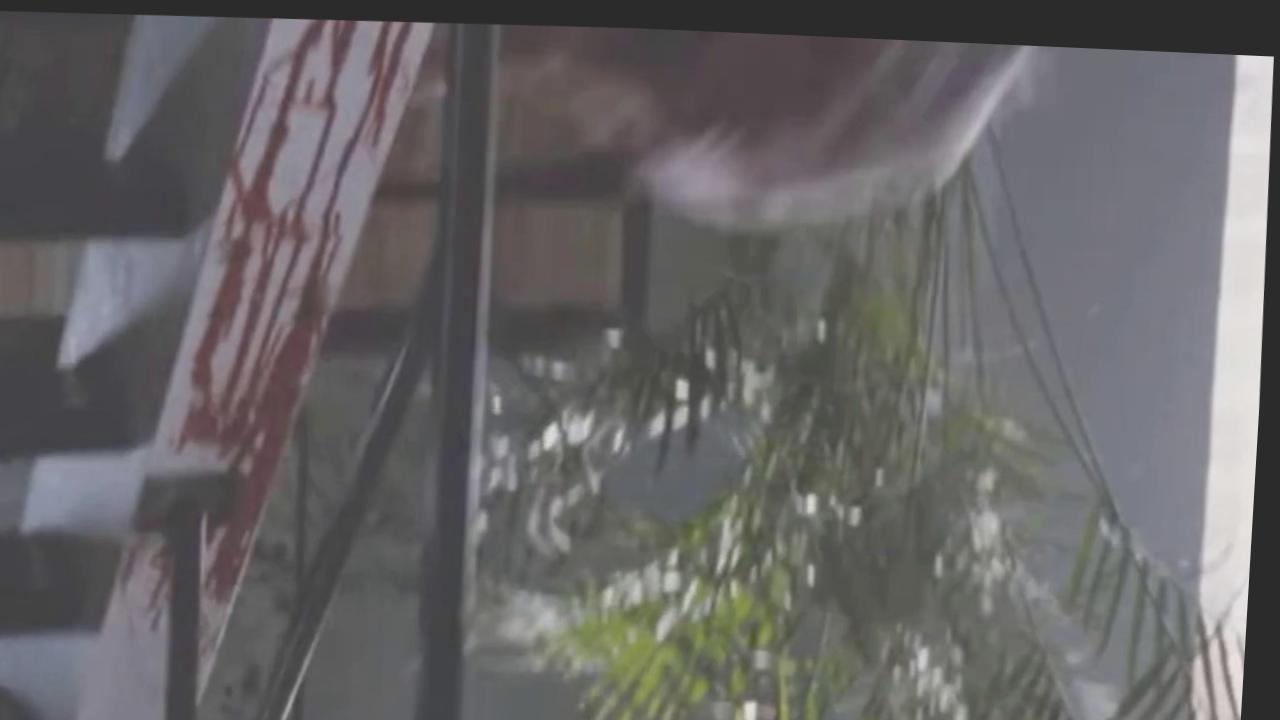Fire: (88, 18, 435, 720)
